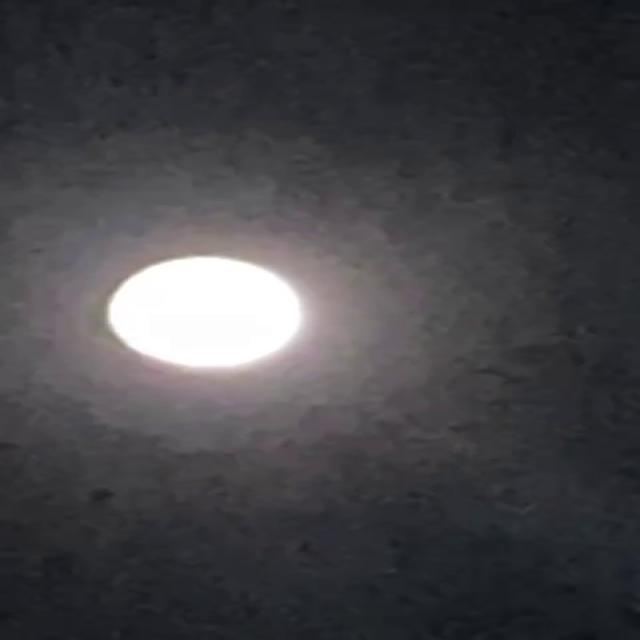moon: (88, 241, 318, 385)
